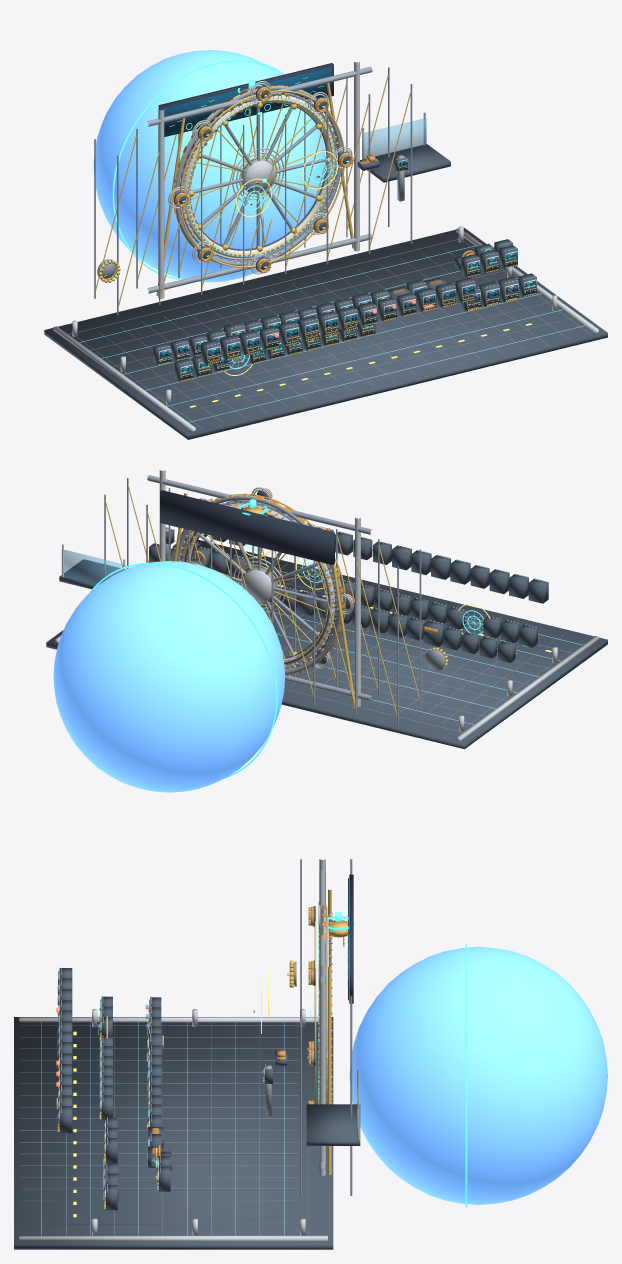
The model's file is Level87_Complete_ArtKit_Showcase.glb.
3 views of the same model, one above another, from view 1: azimuth 30°, elevation 25°; view 2: azimuth 150°, elevation 25°; view 3: azimuth 270°, elevation 25° (orthographic). The views are drawn at different scales.
Visible parts, largest first — view 1: L87_GravityQualificationArena_Part_0000, L87_PanoramicOrbitalObservati_Part_0000, L87_GravityStationIsolationTr_Part_0000, L87_GravityStationIsolationTr_Part_0001, L87_HabitatObservationDeck, L87_GravityStationFixedSuppor_Part_0002, L87_GravityEngineeringMasterS_Part_0001, L87_RotatingHabitatSpokeAssem_Part_0001, L87_RotatingHabitatRingMainRo_Part_0000, L87_GravityStationFixedSuppor_Part_0000, L87_GravityQualificationArena_Part_0001, L87_GravityQualificationArena_Part_0003 (+10 smaller); view 2: L87_PanoramicOrbitalObservati_Part_0000, L87_GravityQualificationArena_Part_0000, L87_GravityEngineeringMasterS_Part_0000, L87_GravityStationIsolationTr_Part_0000, L87_GravityStationIsolationTr_Part_0001, L87_HabitatObservationDeck, L87_GravityStationFixedSuppor_Part_0002, L87_RotatingHabitatSpokeAssem_Part_0001, L87_GravityStationFixedSuppor_Part_0000, L87_GravityQualificationArena_Part_0001, L87_GravityRingStructuralGuid_Part_0000, L87_GravityQualificationArena_Part_0002 (+11 smaller); view 3: L87_GravityQualificationArena_Part_0000, L87_PanoramicOrbitalObservati_Part_0000, L87_GravityQualificationArena_Part_0002, L87_GravityQualificationArena_Part_0001, L87_HabitatObservationDeck, L87_GravityQualificationArena_Part_0004, L87_GravityStationIsolationTr_Part_0000, L87_GravityQualificationArena_Part_0003, L87_GravityStationFixedSuppor_Part_0000, L87_GravityStationFixedSuppor_Part_0001, L87_PanoramicOrbitalObservati_Part_0001, L87_GravityEngineeringMasterS_Part_0000 (+1 smaller).
Boxes of the visible parts, x1,y1,x2,y2 form: L87_GravityQualificationArena_Part_0000: (44,228,607,439); L87_PanoramicOrbitalObservati_Part_0000: (93,50,325,282); L87_GravityStationIsolationTr_Part_0000: (94,67,412,315); L87_GravityStationIsolationTr_Part_0001: (96,74,411,307); L87_HabitatObservationDeck: (360,112,450,182); L87_GravityStationFixedSuppor_Part_0002: (147,66,372,293); L87_GravityEngineeringMasterS_Part_0001: (163,67,331,135); L87_RotatingHabitatSpokeAssem_Part_0001: (191,107,325,246); L87_RotatingHabitatRingMainRo_Part_0000: (183,95,335,258); L87_GravityStationFixedSuppor_Part_0000: (158,61,359,299); L87_GravityQualificationArena_Part_0001: (53,226,598,431); L87_GravityQualificationArena_Part_0003: (68,237,589,414); L87_PanoramicOrbitalObservati_Part_0000: (53,561,285,792); L87_GravityQualificationArena_Part_0000: (46,540,607,748); L87_GravityEngineeringMasterS_Part_0000: (160,490,334,564); L87_GravityStationIsolationTr_Part_0000: (104,478,421,725); L87_GravityStationIsolationTr_Part_0001: (105,484,419,717); L87_HabitatObservationDeck: (59,544,126,589); L87_GravityStationFixedSuppor_Part_0002: (147,475,371,701); L87_RotatingHabitatSpokeAssem_Part_0001: (198,534,327,656); L87_GravityStationFixedSuppor_Part_0000: (159,470,360,706); L87_GravityQualificationArena_Part_0001: (55,635,598,740); L87_GravityRingStructuralGuid_Part_0000: (177,495,342,674); L87_GravityQualificationArena_Part_0002: (222,548,588,727); L87_GravityQualificationArena_Part_0000: (14,1017,333,1249); L87_PanoramicOrbitalObservati_Part_0000: (349,946,607,1204); L87_GravityQualificationArena_Part_0002: (20,1025,298,1224); L87_GravityQualificationArena_Part_0001: (19,1009,327,1240); L87_HabitatObservationDeck: (306,1070,360,1145); L87_GravityQualificationArena_Part_0004: (41,1022,284,1235); L87_GravityStationIsolationTr_Part_0000: (300,859,352,1195); L87_GravityQualificationArena_Part_0003: (20,1022,308,1235); L87_GravityStationFixedSuppor_Part_0000: (319,859,325,1175); L87_GravityStationFixedSuppor_Part_0001: (328,889,331,1174); L87_PanoramicOrbitalObservati_Part_0001: (465,944,467,1207); L87_GravityEngineeringMasterS_Part_0000: (349,874,353,1003).
Bounding box in the file's own units: 30 × 17.09 × 33.1.
